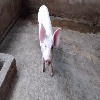heo: (35, 4, 63, 78)
